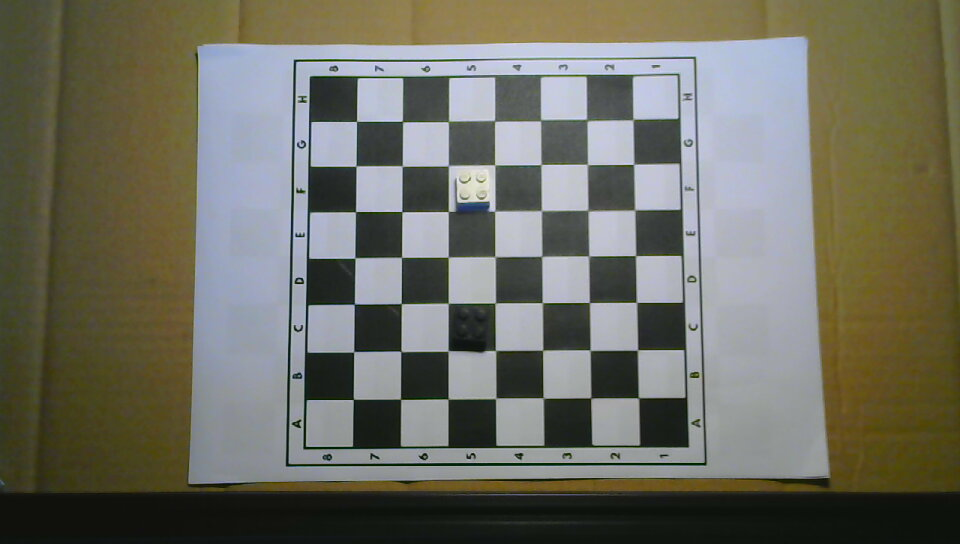bp: (452, 305, 490, 347)
wp: (454, 169, 491, 209)
